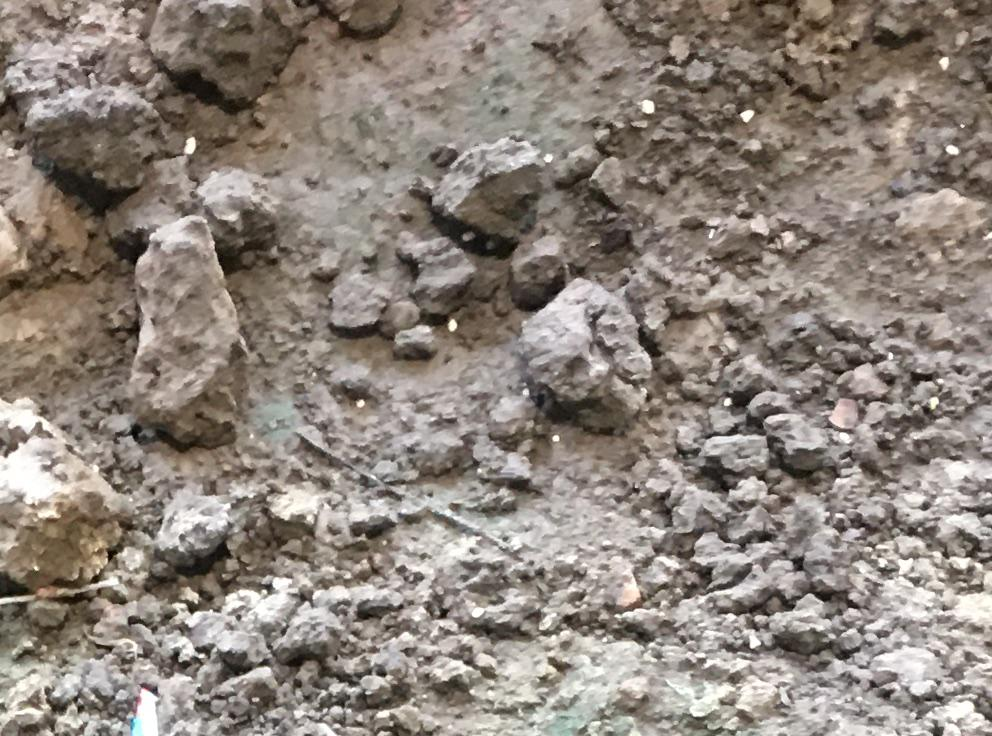block: (131, 215, 243, 449), (1, 396, 118, 593), (522, 279, 651, 443), (18, 92, 172, 197), (432, 132, 541, 240)
